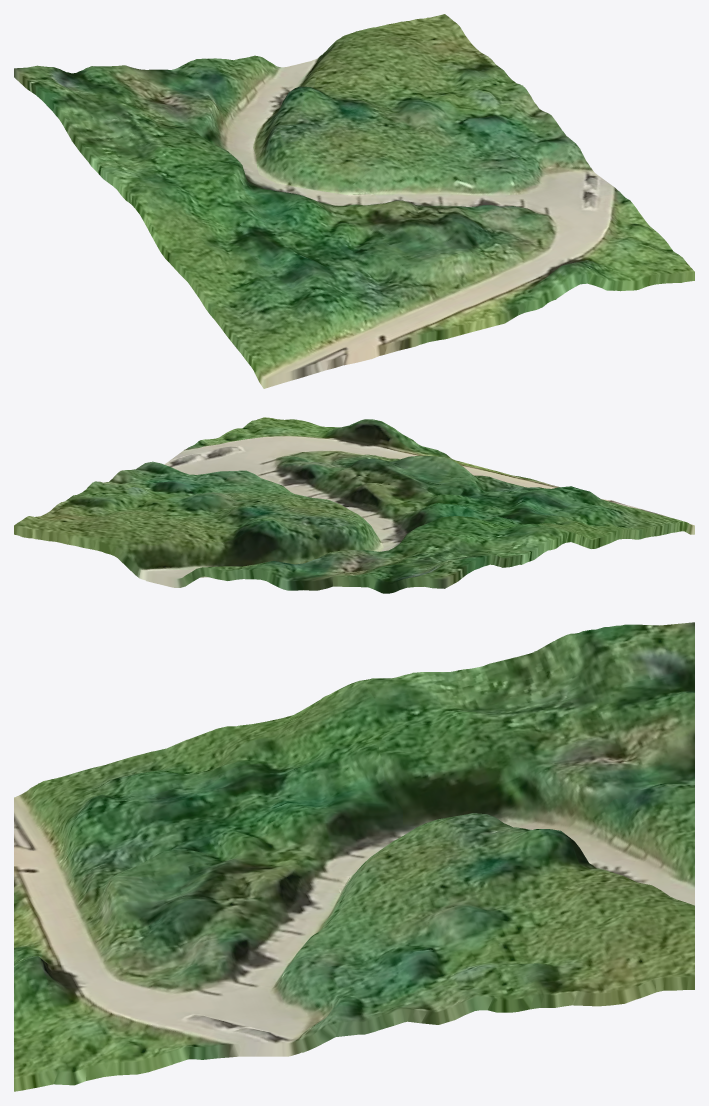
File: z20-167560-405173-h0-yup-uvflip-v3-world.glb
The picture shows the model from 3 angles, top to bottom: view 1: azimuth 30°, elevation 25°; view 2: azimuth 150°, elevation 25°; view 3: azimuth 270°, elevation 25°; orthographic projection. The views are drawn at different scales.
Size of the model in its own units: 30.16 by 9.2 by 30.32.
Materials: 1 (1 with a texture image).
